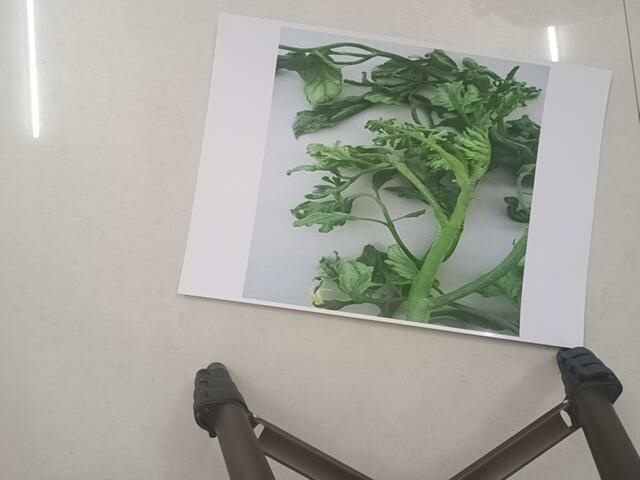Tomamto_Mosaic_virus: (268, 22, 526, 333)
